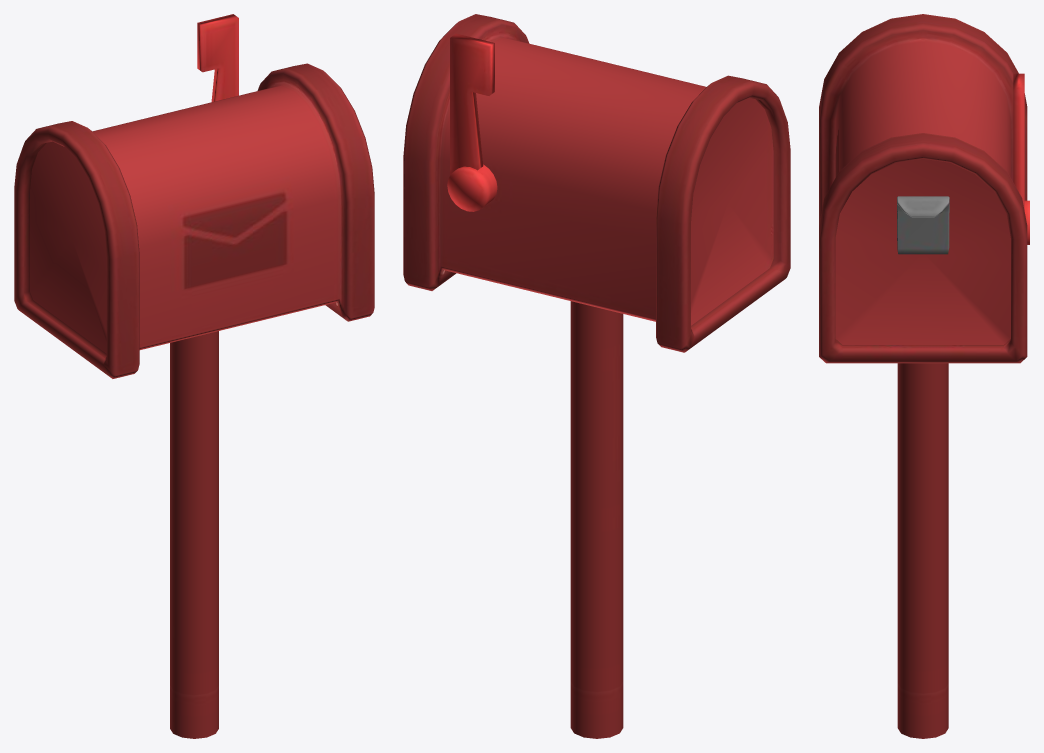
File: furn_mailbox.glb
3 renders of one model, left to right at view 1: azimuth 30°, elevation 25°; view 2: azimuth 150°, elevation 25°; view 3: azimuth 270°, elevation 25°, orthographic. The views are drawn at different scales.
Parts seen in each view (by area): view 1: P1_low, P2_low, P4_low; view 2: P1_low, P2_low, P4_low; view 3: P1_low, P2_low, P3_low, P4_low.
Boxes of the visible parts, x1,y1,x2,y2 form: P1_low: (14,63,374,378); P2_low: (170,331,218,738); P4_low: (197,14,238,101); P1_low: (403,14,790,352); P2_low: (570,301,623,738); P4_low: (447,33,497,211); P1_low: (819,14,1027,363); P2_low: (897,363,948,738); P3_low: (897,196,949,254); P4_low: (1013,73,1029,244).
Size of the model in its own units: 29 by 64.26 by 18.05.
1 material, 1 textured.
